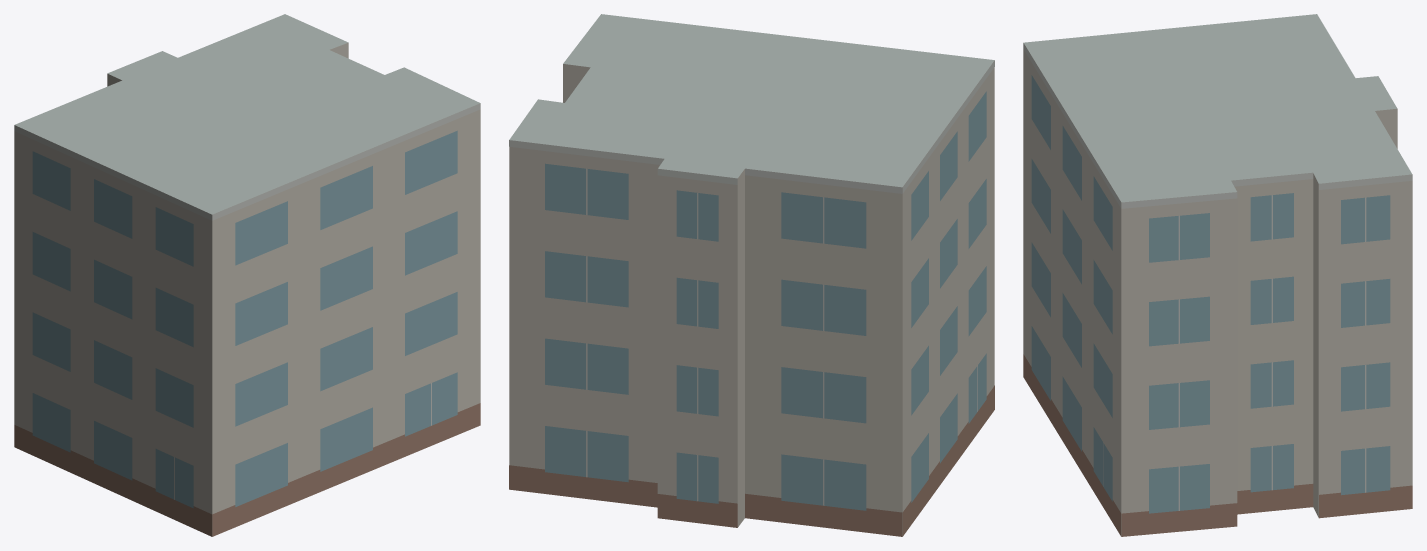
The model's file is survey-upis-32678532.glb.
3 views of the same model, side by side, from view 1: azimuth 30°, elevation 25°; view 2: azimuth 150°, elevation 25°; view 3: azimuth 270°, elevation 25° (orthographic). The views are drawn at different scales.
Parts seen in each view (by area): view 1: survey-upis-32678532.tmp; view 2: survey-upis-32678532.tmp; view 3: survey-upis-32678532.tmp.
Boxes of the visible parts, box(x1,y1,x2,y2) form: survey-upis-32678532.tmp: box(14, 14, 480, 536); survey-upis-32678532.tmp: box(509, 14, 994, 536); survey-upis-32678532.tmp: box(1023, 14, 1412, 536).
Size of the model in its own units: 15.48 by 12.8 by 13.51.
